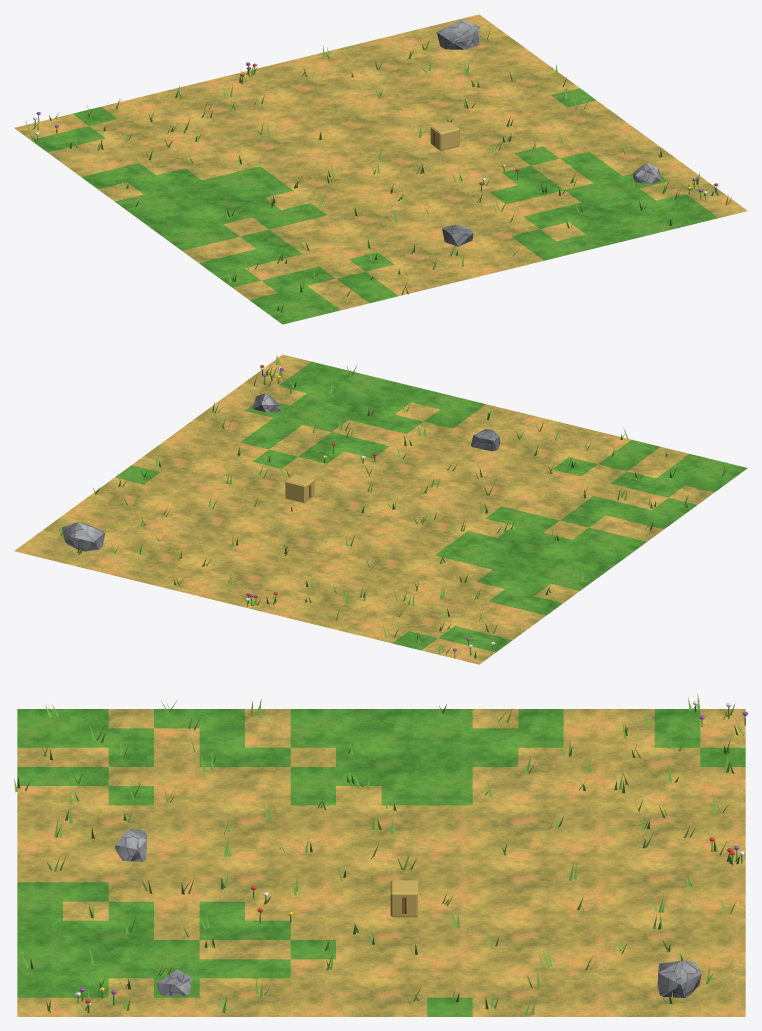
Rendered from chunk_8_13.glb.
The picture shows the model from 3 angles, top to bottom: view 1: azimuth 30°, elevation 25°; view 2: azimuth 150°, elevation 25°; view 3: azimuth 270°, elevation 25°; orthographic projection. The views are drawn at different scales.
Parts seen in each view (by area): view 1: chunk_8_13; view 2: chunk_8_13; view 3: chunk_8_13.
Boxes of the visible parts, x1,y1,x2,y2 form: chunk_8_13: (14,14,747,324); chunk_8_13: (14,354,747,664); chunk_8_13: (14,693,747,1016).
Bounding box in the file's own units: 16.1 × 1.21 × 16.12.
Materials: 11 (5 with a texture image).
